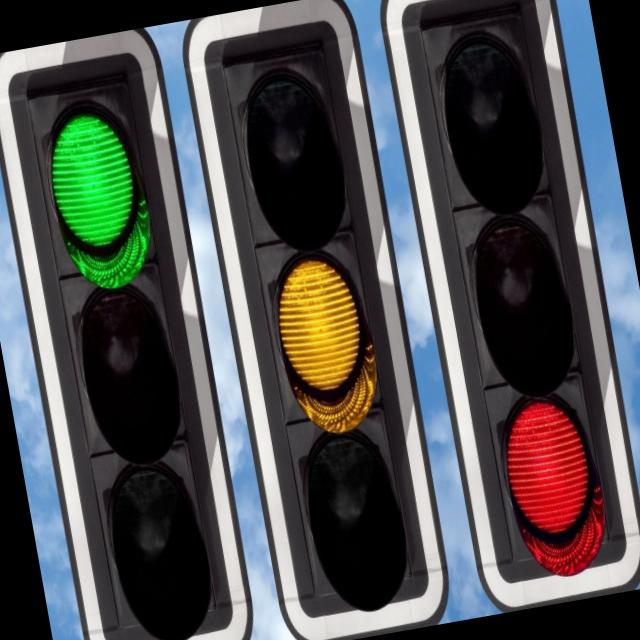green-lights: (40, 107, 144, 256)
red-lights: (495, 392, 597, 540)
yellow-lights: (266, 248, 370, 396)
